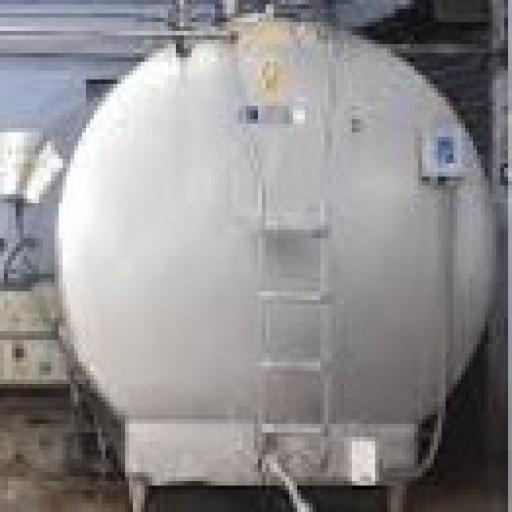silo: (16, 15, 495, 481)
